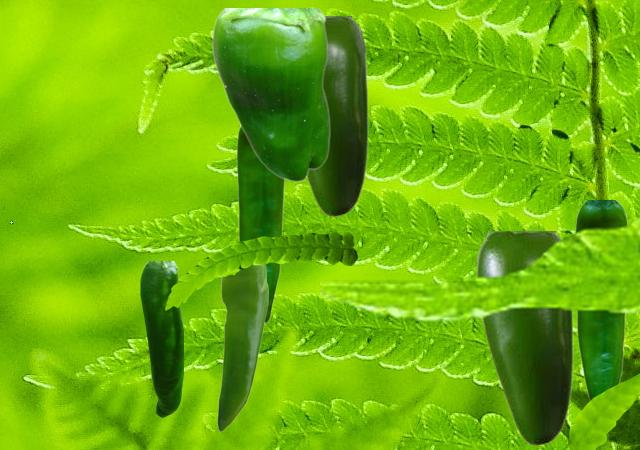green_chili: (211, 8, 329, 181), (477, 231, 572, 445), (305, 16, 367, 216), (574, 200, 627, 400), (236, 126, 284, 321), (217, 265, 267, 430), (140, 261, 182, 416)
